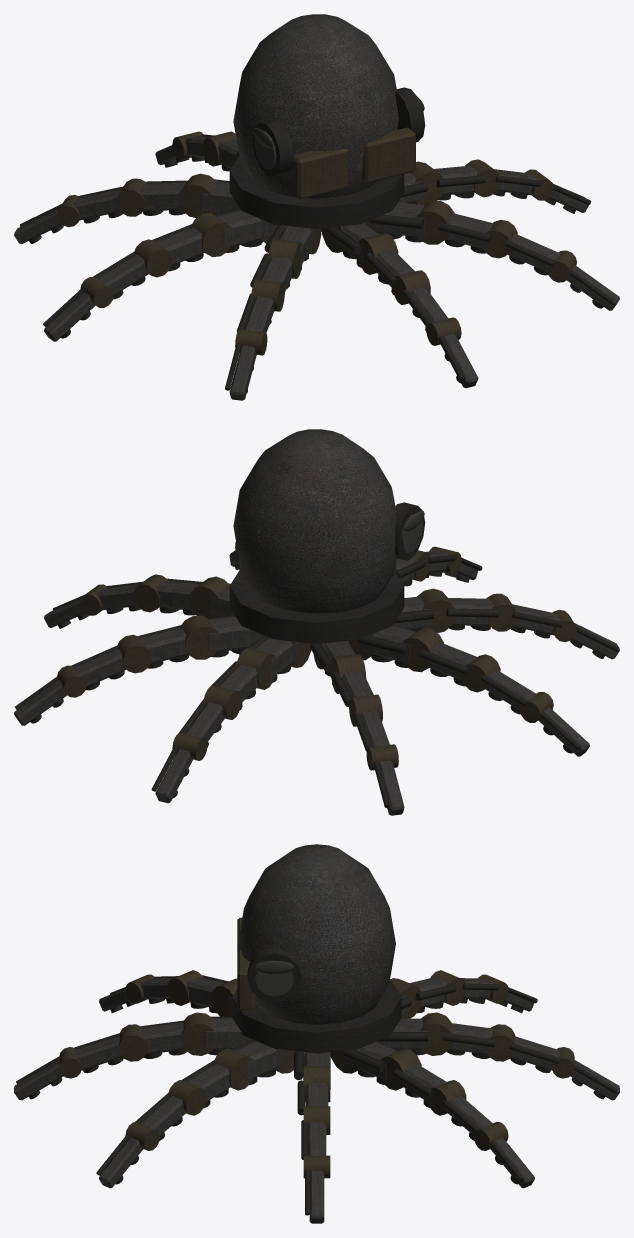
The model's file is wild-civata-ahtapot.glb.
The picture shows the model from 3 angles, top to bottom: view 1: azimuth 30°, elevation 25°; view 2: azimuth 150°, elevation 25°; view 3: azimuth 270°, elevation 25°; orthographic projection. The views are drawn at different scales.
Parts seen in each view (by area): view 1: CivataAhtapot__Head_Mesh, CivataAhtapot__Arm7_1_Mesh, CivataAhtapot__Arm4_1_Mesh, CivataAhtapot__Arm3_1_Mesh, CivataAhtapot__Arm4_2_Mesh, CivataAhtapot__Arm7_2_Mesh, CivataAhtapot__Arm3_2_Mesh, CivataAhtapot__Arm4_3_Mesh, CivataAhtapot__Arm0_1_Mesh, CivataAhtapot__Arm6_1_Mesh, CivataAhtapot__Arm5_3_Mesh, CivataAhtapot__Arm7_3_Mesh (+16 smaller); view 2: CivataAhtapot__Head_Mesh, CivataAhtapot__Arm1_1_Mesh, CivataAhtapot__Arm1_2_Mesh, CivataAhtapot__Arm4_1_Mesh, CivataAhtapot__Arm5_1_Mesh, CivataAhtapot__Arm0_1_Mesh, CivataAhtapot__Arm4_2_Mesh, CivataAhtapot__Arm2_2_Mesh, CivataAhtapot__Arm1_3_Mesh, CivataAhtapot__Arm2_1_Mesh, CivataAhtapot__Arm2_3_Mesh, CivataAhtapot__Arm5_2_Mesh (+15 smaller); view 3: CivataAhtapot__Head_Mesh, CivataAhtapot__Arm6_1_Mesh, CivataAhtapot__Arm2_1_Mesh, CivataAhtapot__Arm6_2_Mesh, CivataAhtapot__Arm7_1_Mesh, CivataAhtapot__Arm7_2_Mesh, CivataAhtapot__Arm1_1_Mesh, CivataAhtapot__Arm2_2_Mesh, CivataAhtapot__Arm7_3_Mesh, CivataAhtapot__Arm1_2_Mesh, CivataAhtapot__Arm6_3_Mesh, CivataAhtapot__Arm1_3_Mesh (+15 smaller).
Part boxes in pixels (bbox=[...]): CivataAhtapot__Head_Mesh: bbox=[229, 14, 425, 228]; CivataAhtapot__Arm7_1_Mesh: bbox=[416, 200, 493, 253]; CivataAhtapot__Arm4_1_Mesh: bbox=[152, 213, 231, 271]; CivataAhtapot__Arm3_1_Mesh: bbox=[139, 173, 216, 217]; CivataAhtapot__Arm4_2_Mesh: bbox=[93, 239, 172, 299]; CivataAhtapot__Arm7_2_Mesh: bbox=[482, 219, 560, 275]; CivataAhtapot__Arm3_2_Mesh: bbox=[73, 178, 147, 223]; CivataAhtapot__Arm4_3_Mesh: bbox=[43, 277, 113, 341]; CivataAhtapot__Arm0_1_Mesh: bbox=[409, 161, 485, 204]; CivataAhtapot__Arm6_1_Mesh: bbox=[358, 233, 414, 294]; CivataAhtapot__Arm5_3_Mesh: bbox=[225, 329, 267, 400]; CivataAhtapot__Arm7_3_Mesh: bbox=[547, 250, 619, 310]; CivataAhtapot__Head_Mesh: bbox=[229, 429, 425, 644]; CivataAhtapot__Arm1_1_Mesh: bbox=[138, 615, 217, 668]; CivataAhtapot__Arm1_2_Mesh: bbox=[71, 634, 151, 690]; CivataAhtapot__Arm4_1_Mesh: bbox=[402, 628, 477, 686]; CivataAhtapot__Arm5_1_Mesh: bbox=[417, 588, 499, 632]; CivataAhtapot__Arm0_1_Mesh: bbox=[156, 576, 229, 618]; CivataAhtapot__Arm4_2_Mesh: bbox=[461, 654, 536, 714]; CivataAhtapot__Arm2_2_Mesh: bbox=[179, 685, 241, 747]; CivataAhtapot__Arm1_3_Mesh: bbox=[14, 665, 86, 725]; CivataAhtapot__Arm2_1_Mesh: bbox=[210, 648, 275, 709]; CivataAhtapot__Arm2_3_Mesh: bbox=[151, 732, 207, 803]; CivataAhtapot__Arm5_2_Mesh: bbox=[486, 593, 562, 638]; CivataAhtapot__Head_Mesh: bbox=[232, 844, 401, 1053]; CivataAhtapot__Arm6_1_Mesh: bbox=[141, 1012, 213, 1058]; CivataAhtapot__Arm2_1_Mesh: bbox=[420, 1012, 495, 1058]; CivataAhtapot__Arm6_2_Mesh: bbox=[74, 1024, 147, 1073]; CivataAhtapot__Arm7_1_Mesh: bbox=[181, 1048, 253, 1107]; CivataAhtapot__Arm7_2_Mesh: bbox=[135, 1080, 206, 1140]; CivataAhtapot__Arm1_1_Mesh: bbox=[380, 1048, 446, 1107]; CivataAhtapot__Arm2_2_Mesh: bbox=[486, 1024, 559, 1073]; CivataAhtapot__Arm7_3_Mesh: bbox=[96, 1122, 159, 1188]; CivataAhtapot__Arm1_2_Mesh: bbox=[427, 1080, 493, 1140]; CivataAhtapot__Arm6_3_Mesh: bbox=[14, 1047, 81, 1100]; CivataAhtapot__Arm1_3_Mesh: bbox=[474, 1122, 534, 1188].
Size of the model in its own units: 1.16 by 0.5252 by 1.16.
Materials: 4 (4 with a texture image).
